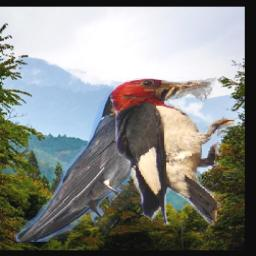Swallow: (14, 86, 157, 242)
Woodpecker: (110, 77, 235, 226)
